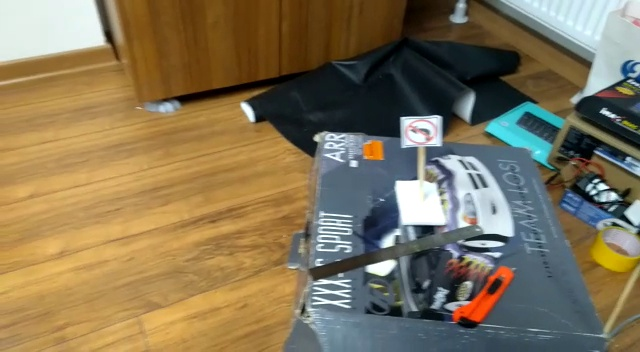sola_donulmez: (401, 117, 439, 146)
